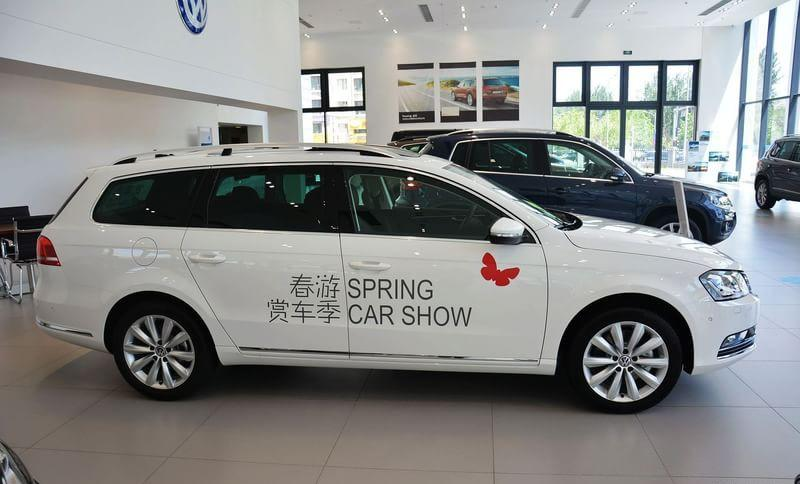Wagon: (32, 140, 761, 414)
